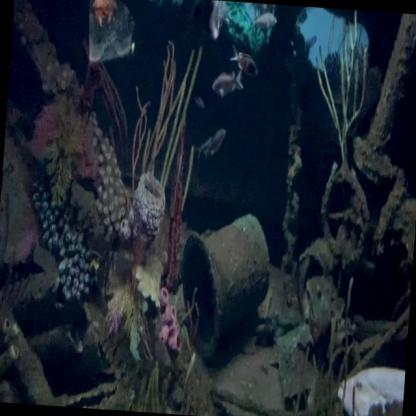fish: (332, 360, 405, 416), (212, 66, 245, 101), (228, 47, 260, 80), (200, 126, 228, 163), (192, 129, 218, 163), (251, 10, 279, 34), (249, 2, 277, 14), (193, 92, 207, 113)
